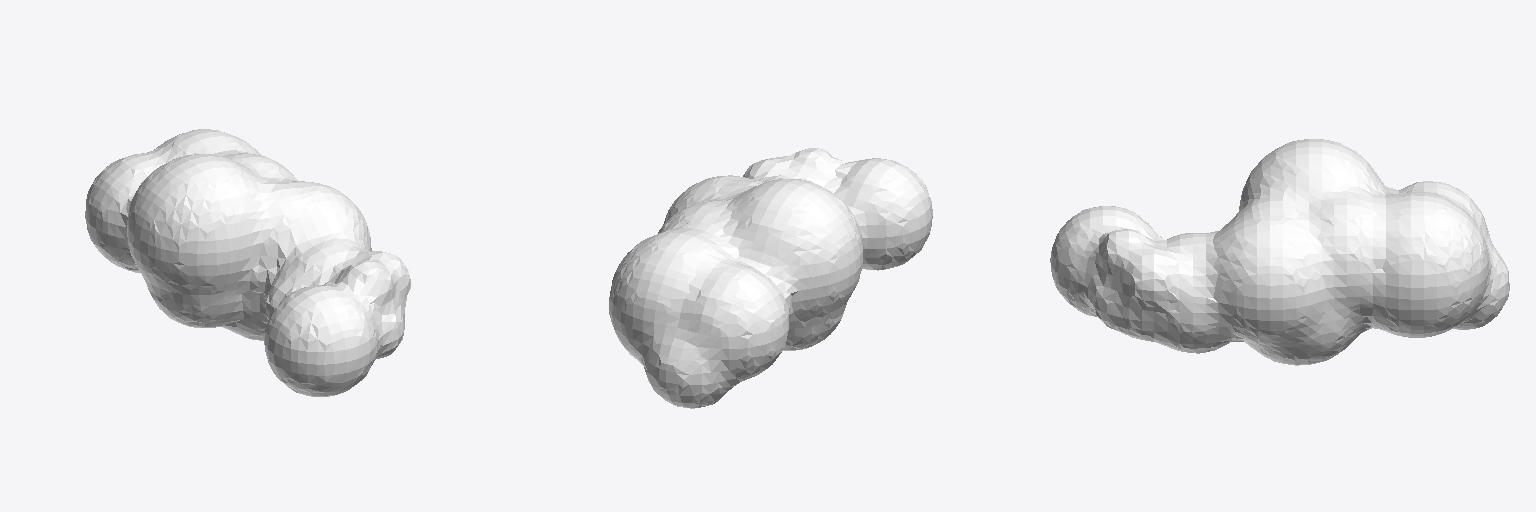
File: cloud-laying.obj
The picture shows the model from 3 angles: view 1: azimuth 30°, elevation 25°; view 2: azimuth 150°, elevation 25°; view 3: azimuth 270°, elevation 25°; orthographic projection.
Visible parts, largest first — view 1: CloudLaying; view 2: CloudLaying; view 3: CloudLaying.
Boxes of the visible parts, x1,y1,x2,y2 form: CloudLaying: [85, 129, 410, 396]; CloudLaying: [609, 148, 932, 408]; CloudLaying: [1050, 139, 1509, 365].
Bounding box in the file's own units: 12.39 × 10.7 × 24.14.